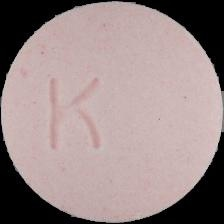10702-004: (0, 0, 224, 224)
